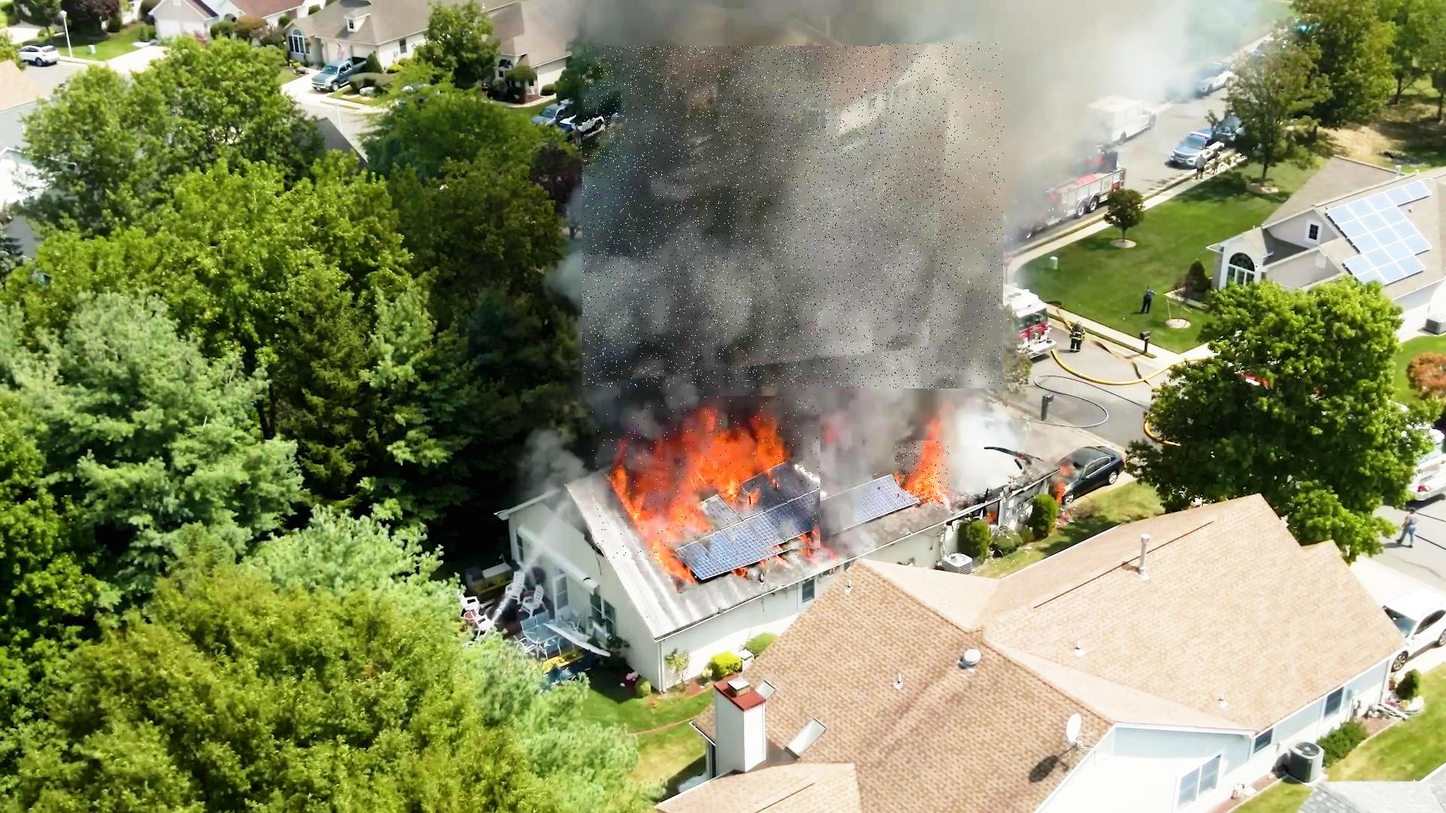fire: (593, 396, 822, 560), (895, 441, 951, 502)
smoke: (582, 46, 959, 389), (881, 43, 1005, 391)
